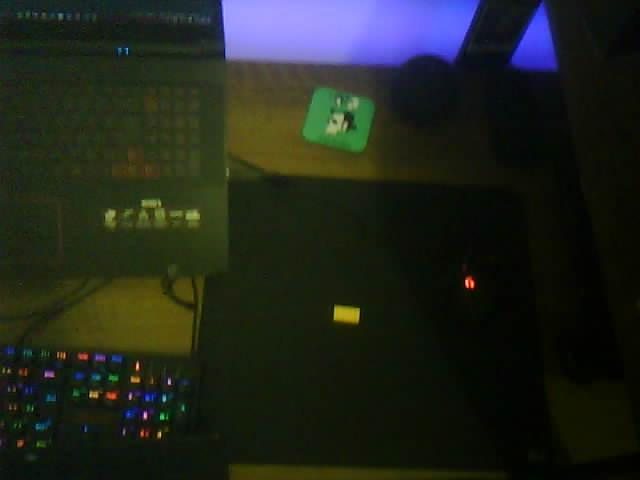lego: (333, 304, 361, 326)
